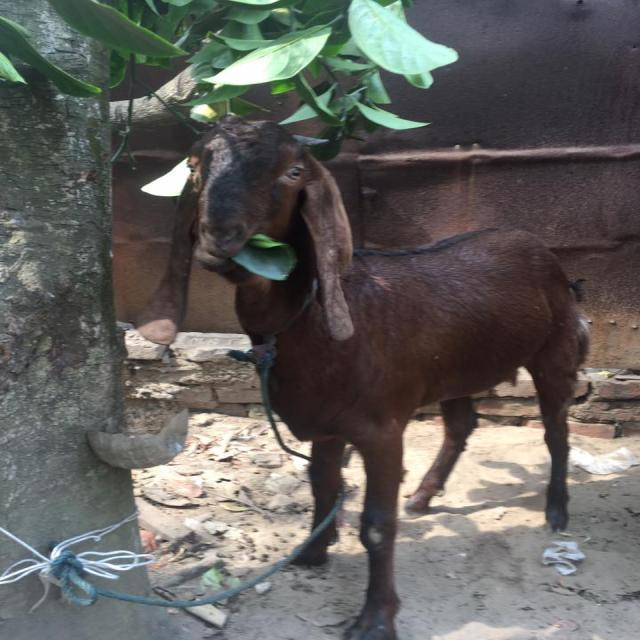Goat: (131, 112, 591, 639)
